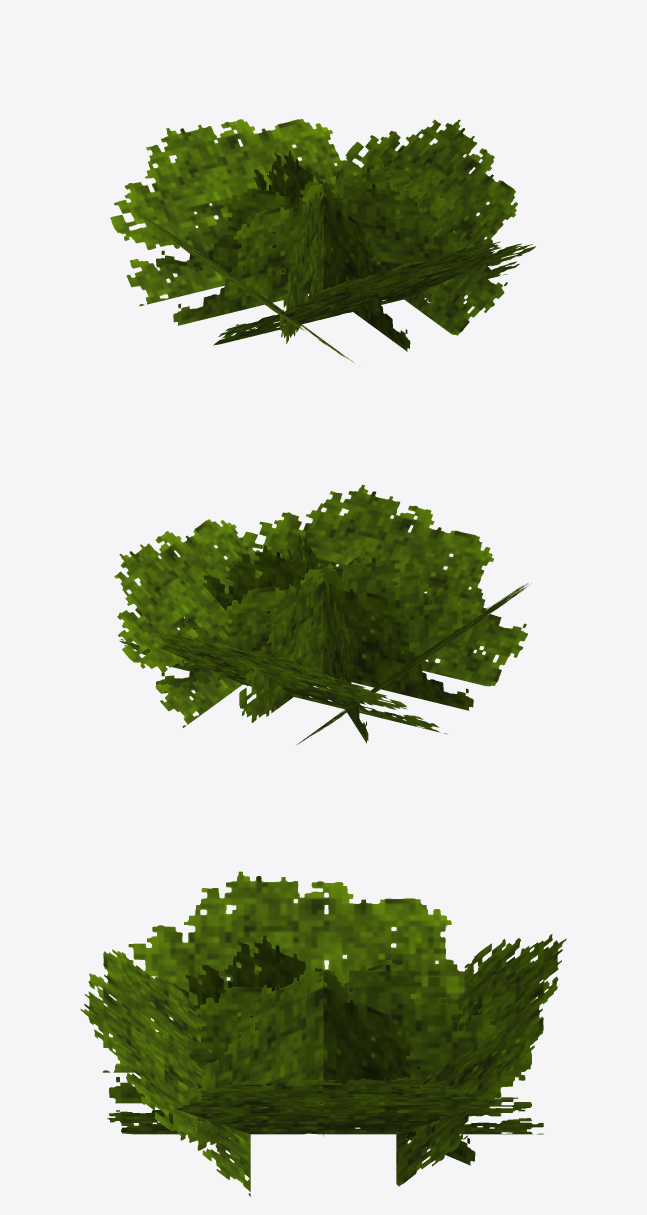
The model's file is BETA Bush.glb.
3 views of the same model, one above another, from view 1: azimuth 30°, elevation 25°; view 2: azimuth 150°, elevation 25°; view 3: azimuth 270°, elevation 25° (orthographic). The views are drawn at different scales.
Visible parts, largest first — view 1: Flower Patch A1; view 2: Flower Patch A1; view 3: Flower Patch A1.
Part boxes in pixels (bbox=[...]): Flower Patch A1: bbox=[110, 119, 535, 362]; Flower Patch A1: bbox=[114, 484, 531, 744]; Flower Patch A1: bbox=[80, 871, 566, 1196].
Bounding box in the file's own units: 2.69 × 1.06 × 2.69.
1 material, 1 textured.
